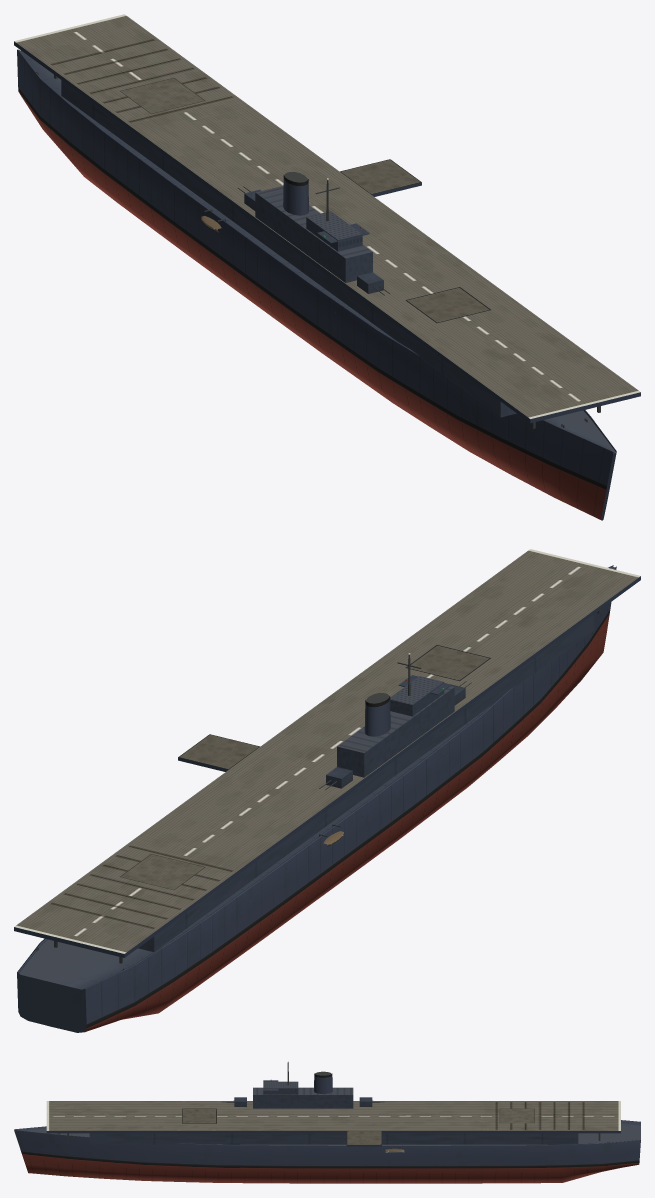
The model's file is carrier.glb.
The picture shows the model from 3 angles, top to bottom: view 1: azimuth 30°, elevation 25°; view 2: azimuth 150°, elevation 25°; view 3: azimuth 270°, elevation 25°; orthographic projection. The views are drawn at different scales.
Visible parts, largest first — view 1: hull, ascenseur; view 2: hull, ascenseur; view 3: hull, ascenseur.
Part boxes in pixels (bbox=[...]): hull: bbox=[14, 14, 640, 520]; ascenseur: bbox=[406, 287, 490, 323]; hull: bbox=[14, 549, 640, 1032]; ascenseur: bbox=[406, 645, 490, 681]; hull: bbox=[14, 1061, 640, 1183]; ascenseur: bbox=[182, 1108, 216, 1123].
Bounding box in the file's own units: 43.93 × 44.32 × 250.
Materials: 7 (6 with a texture image).
